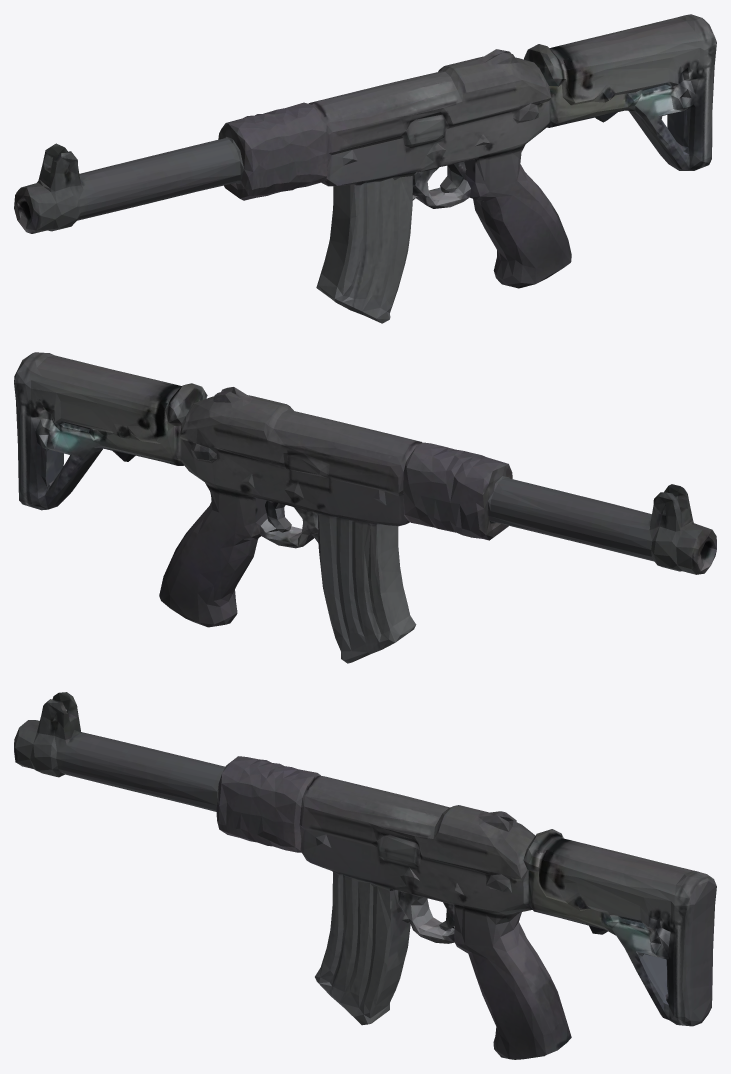
Rendered from smg.glb.
3 views of the same model, one above another, from view 1: azimuth 30°, elevation 25°; view 2: azimuth 150°, elevation 25°; view 3: azimuth 330°, elevation 25° (orthographic).
Parts seen in each view (by area): view 1: smg; view 2: smg; view 3: smg.
Boxes of the visible parts, x1=… form: smg: x1=14, y1=14, x2=716, y2=323; smg: x1=14, y1=352, x2=716, y2=663; smg: x1=14, y1=692, x2=716, y2=1059.
Bounding box in the file's own units: 0.85 × 0.2919 × 0.0732.
1 material, 1 textured.
